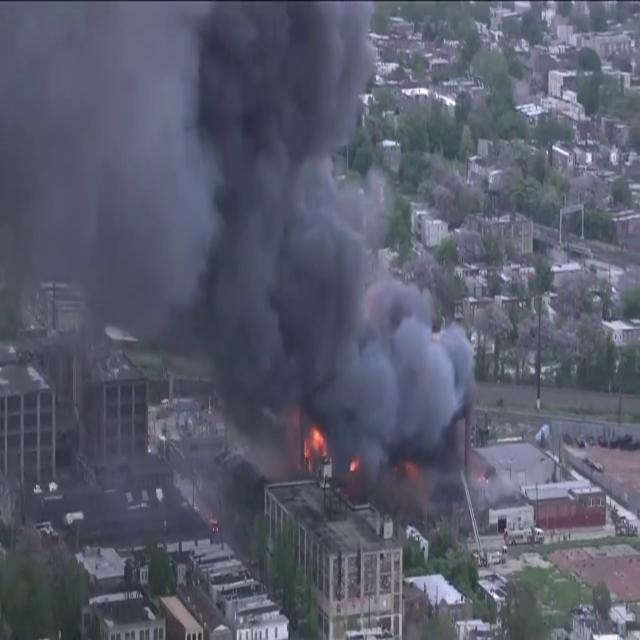Smoke: (0, 1, 478, 478)
